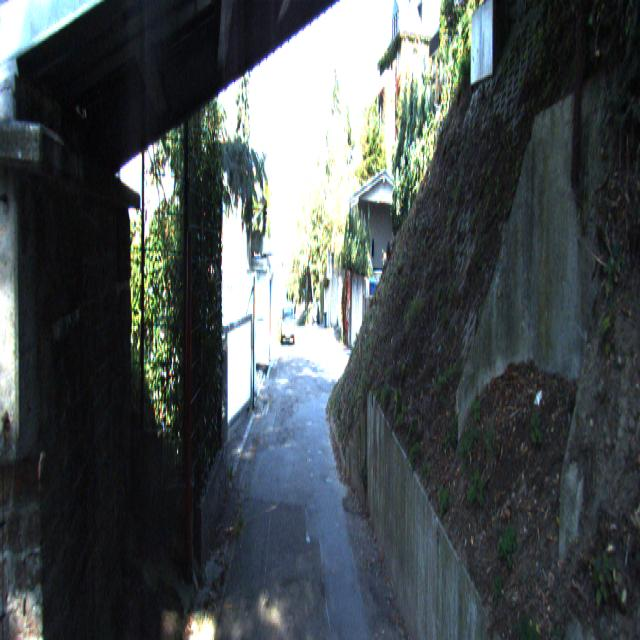Car: (281, 305, 296, 348)
